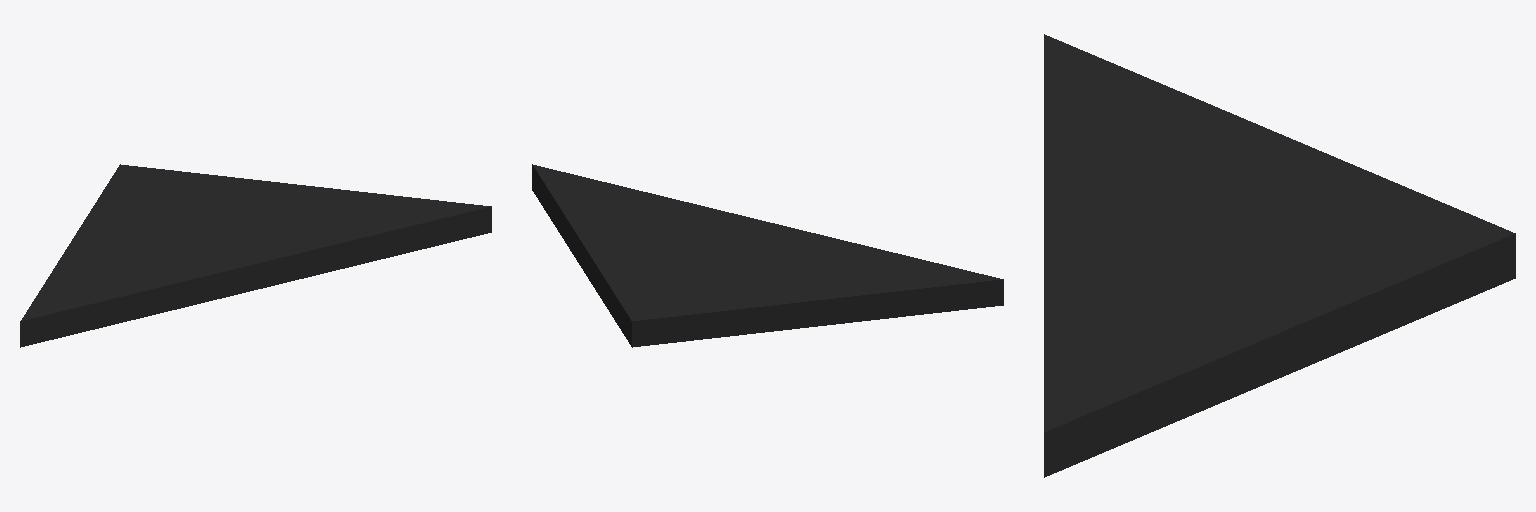
robot.urdf — Triangle1:
<?xml version="1.0" ?>
<robot name="Triangle1">

    <link name="base">
        <contact>
            <lateral_friction value="1.0"/>
            <spinning_friction value="1.0"/>
            <restitution value="0.5"/>
        </contact>
        <inertial>
            <origin rpy="0 0 0" xyz="0 0 0"/>
            <mass value="999999"/>
            <inertia ixx="0.2125" ixy="-0.005" ixz="0.0225" iyy="0.205" iyz="0.045" izz="0.0125"/>
        </inertial>
        <visual>
            <geometry>
                <mesh filename="triangle1.dae" scale="10 10 10"/>
            </geometry>
            <origin rpy="0 0 0" xyz="0 0 0"/>
            <material name="black">
                <color rgba="0.2 0.2 0.2 1"/>
            </material>
        </visual>
        <collision>
            <geometry>
                 <mesh filename="triangle1.dae" scale="10 10 50"/>
            </geometry>
            <origin rpy="0 0 0" xyz="0 0 0"/>
        </collision>
	</link>

</robot>

--- Render facts (derived) ---
3 views of the same robot in one strip: view 1: azimuth 30°, elevation 25°; view 2: azimuth 150°, elevation 25°; view 3: azimuth 270°, elevation 25° (orthographic).
Robot: Triangle1 — 1 links, 0 joints (none); root link base; default pose: all joints at 0.
Visible links, largest first — view 1: base; view 2: base; view 3: base.
Link boxes in pixels (left/top/right/bottom): base: left=20, top=164, right=491, bottom=347; base: left=532, top=164, right=1003, bottom=347; base: left=1044, top=34, right=1515, bottom=477.
Bounding box of the posed robot: 1.13 × 0.5657 × 0.06 m (x, y, z).
Meshes: 1 distinct files referenced, 1 mesh visuals loaded (1 Collada DAE).